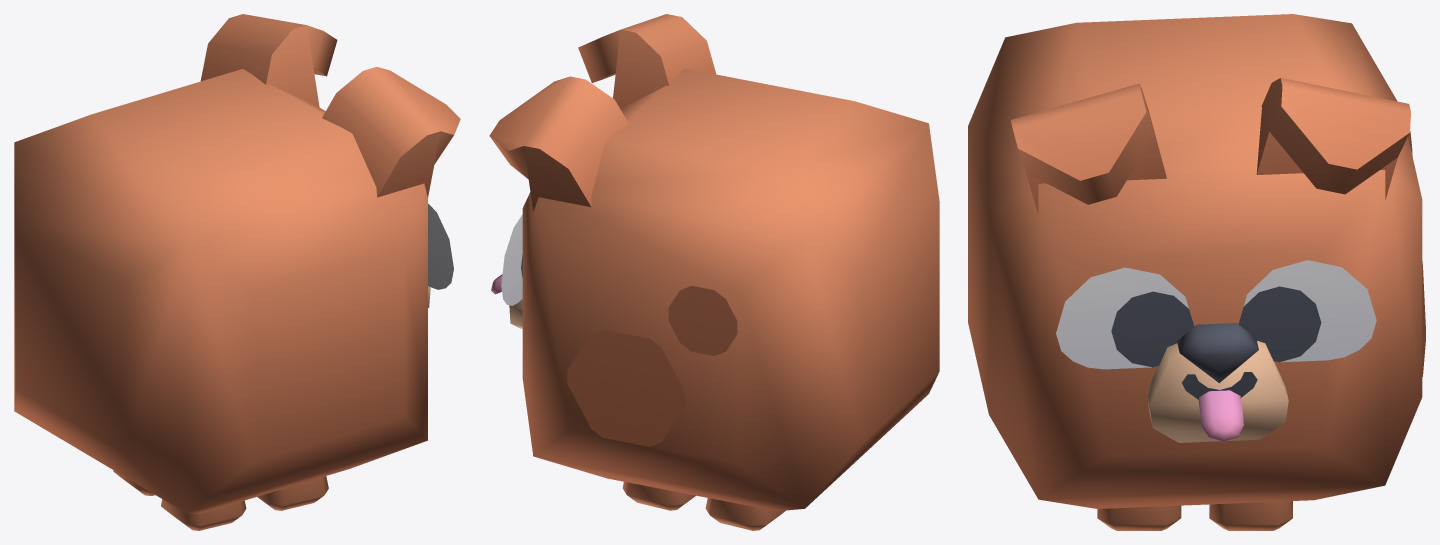
The model's file is animal-dog.glb.
3 renders of one model, left to right at view 1: azimuth 30°, elevation 25°; view 2: azimuth 150°, elevation 25°; view 3: azimuth 270°, elevation 25°, orthographic. The views are drawn at different scales.
Visible parts, largest first — view 1: body.007, leg-front-left.007, leg-front-right.007; view 2: body.007, leg-back-right.006, leg-back-left.006; view 3: body.007, leg-back-left.006, leg-front-left.007.
Part boxes in pixels (x1,y1,x2,y2): body.007: (14, 14, 460, 513); leg-front-left.007: (257, 476, 328, 510); leg-front-right.007: (161, 499, 246, 530); body.007: (489, 14, 939, 511); leg-back-right.006: (705, 498, 785, 530); leg-back-left.006: (622, 482, 695, 510); body.007: (968, 14, 1425, 508); leg-back-left.006: (1209, 501, 1292, 530); leg-front-left.007: (1097, 505, 1181, 530).
Bounding box in the file's own units: 2.37 × 2.37 × 2.05.
1 material, 1 textured.
